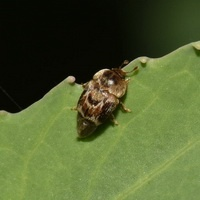insect: (75, 66, 137, 137)
